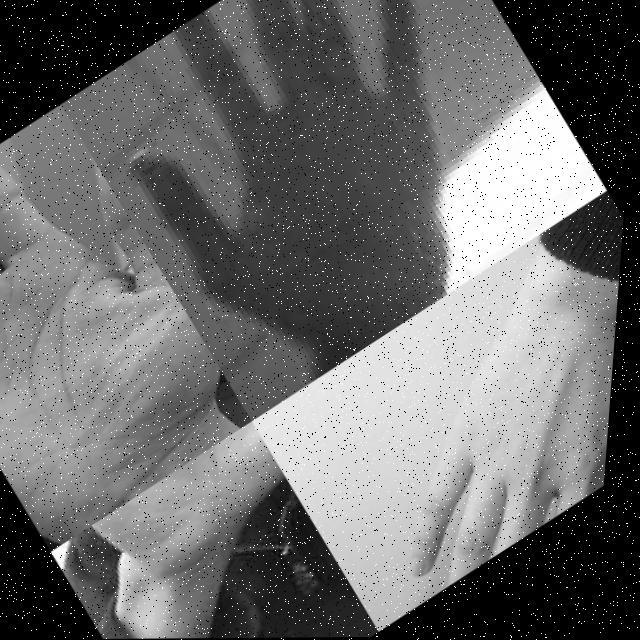no-gloves: (60, 0, 572, 411), (0, 102, 276, 552), (307, 221, 627, 603), (58, 420, 366, 640)
